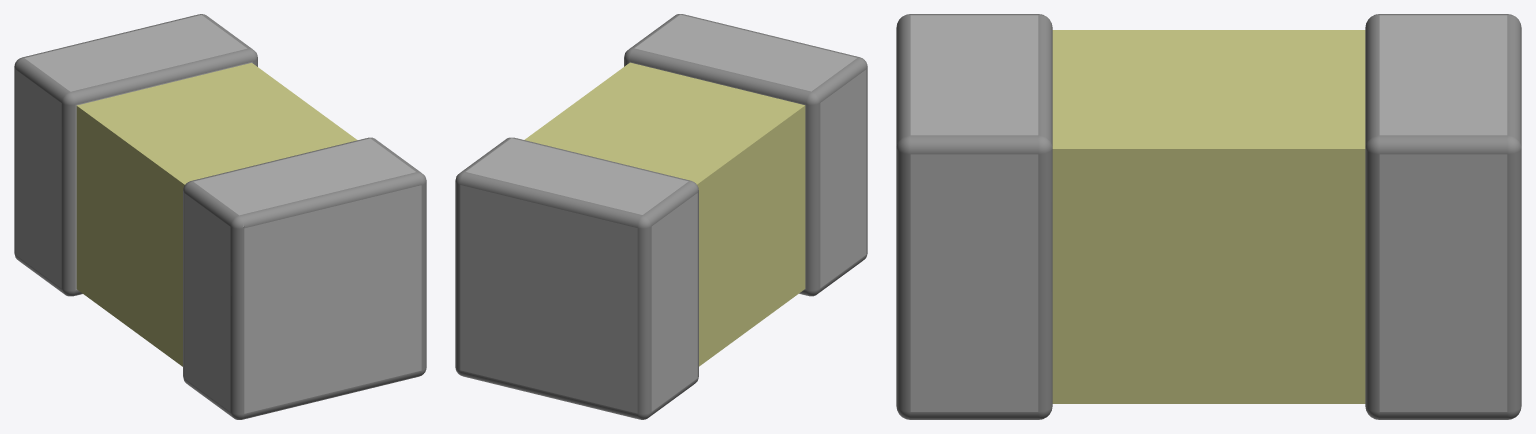
3 views of the same model, side by side, from view 1: azimuth 30°, elevation 25°; view 2: azimuth 150°, elevation 25°; view 3: azimuth 270°, elevation 25° (orthographic). The views are drawn at different scales.
Visible parts, largest first — view 1: Ceramic Capacitor; view 2: Ceramic Capacitor; view 3: Ceramic Capacitor.
Part boxes in pixels (<box>): Ceramic Capacitor: <box>14,14,426,419</box>; Ceramic Capacitor: <box>455,14,867,419</box>; Ceramic Capacitor: <box>896,14,1521,419</box>.
Size of the model in its own units: 0.0008 by 0.0008 by 0.0016.
